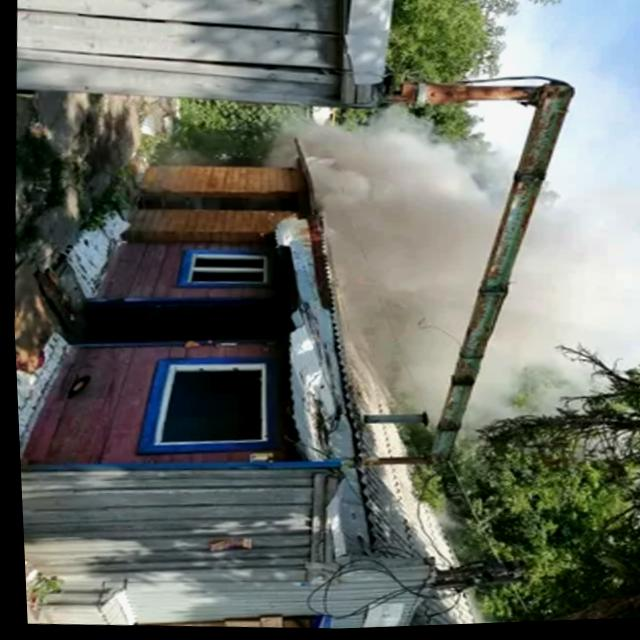Smoke: (299, 108, 640, 455)
